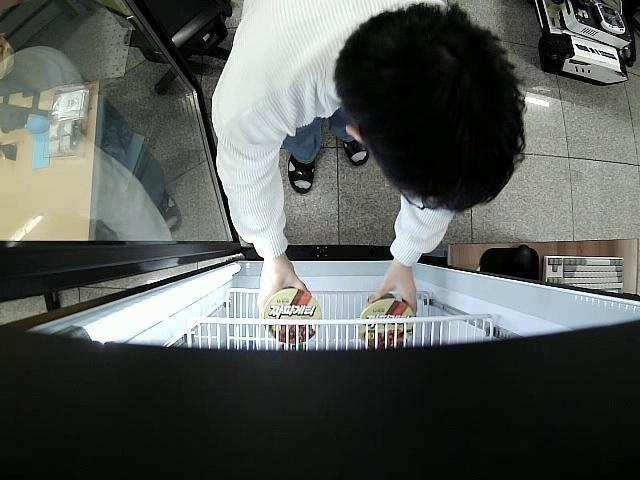03_chapagetti_L: (260, 286, 322, 342), (358, 296, 417, 351)
